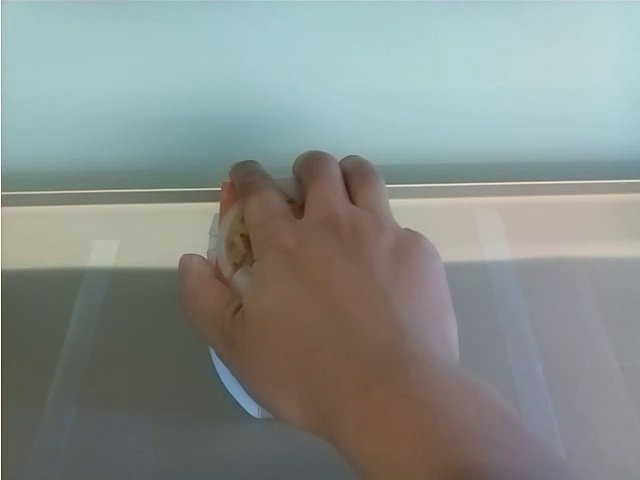hand: (178, 148, 460, 428)
